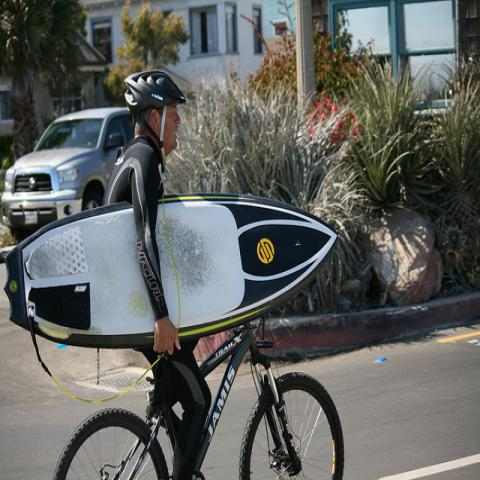truck: (2, 108, 133, 242)
